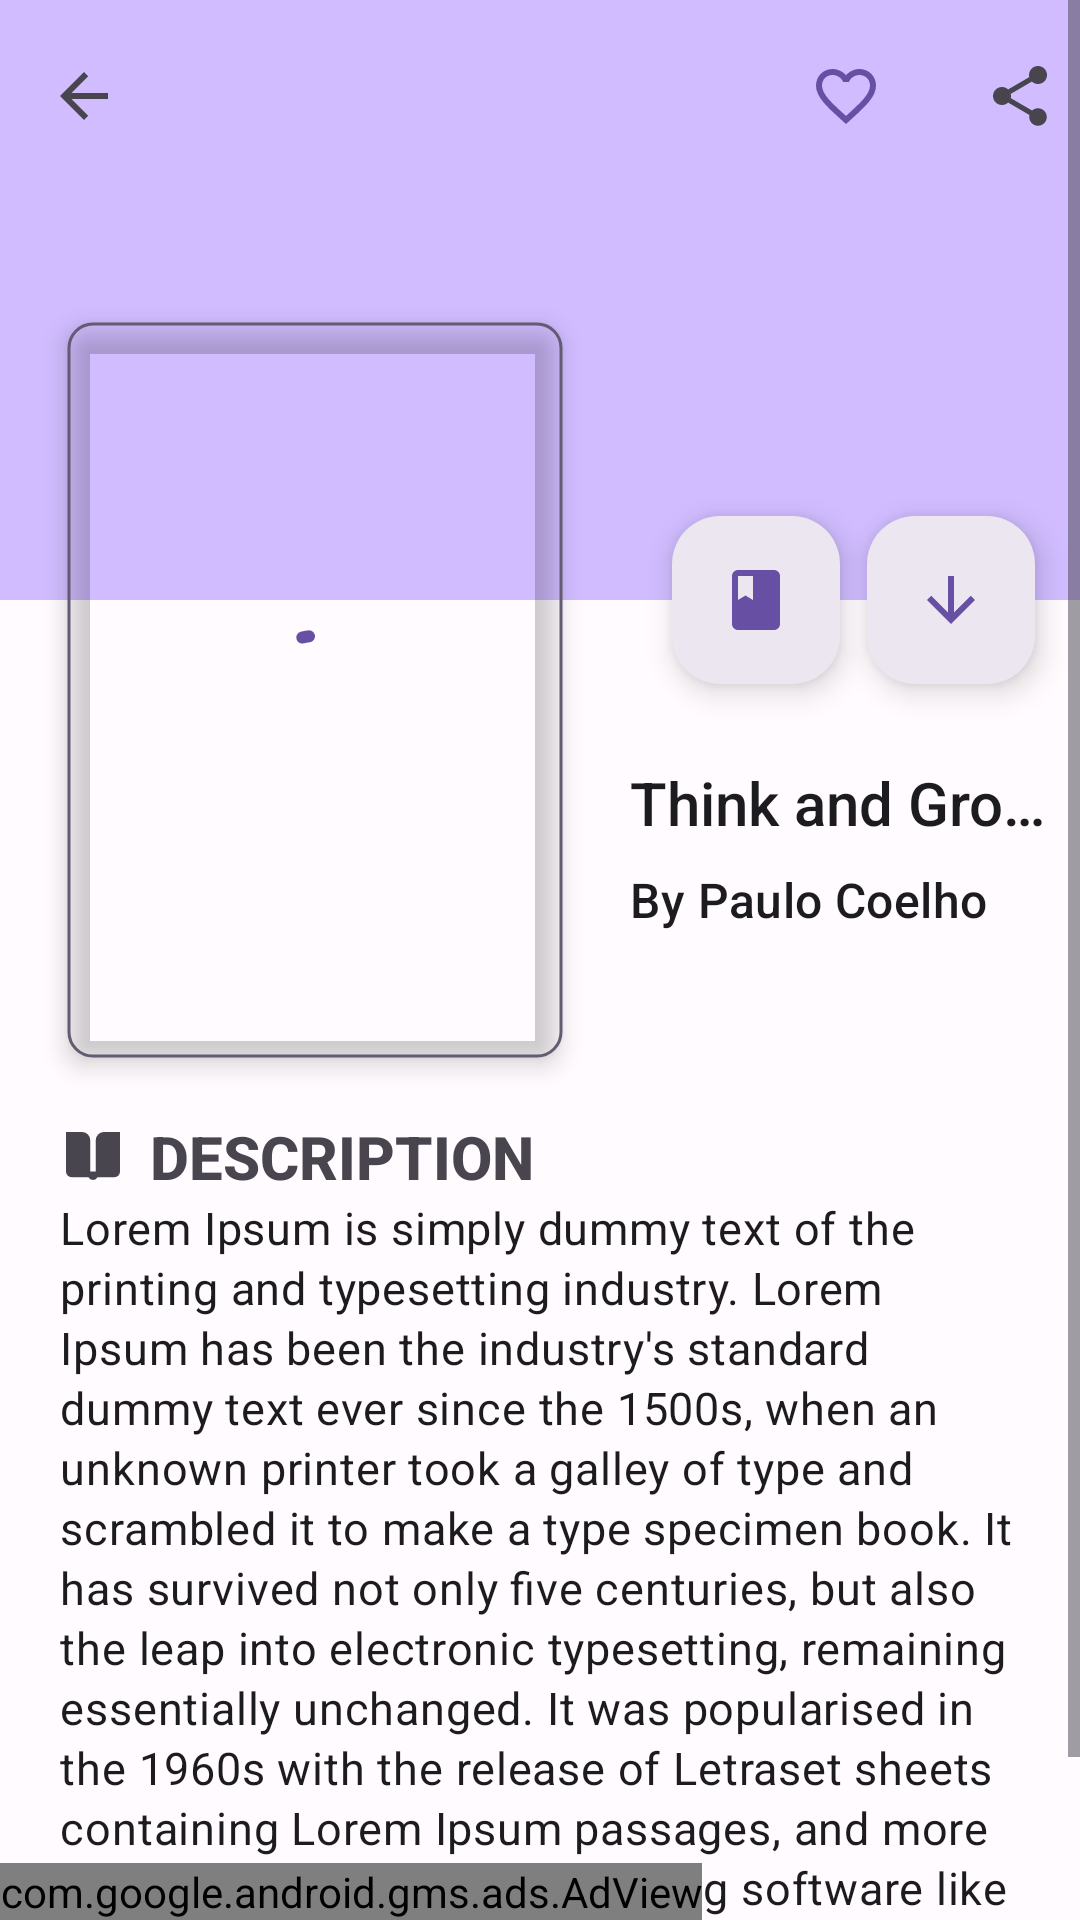

Named icons in this screenshot (1080*1920) and their centers, (x=x, y=y):
arrow downward: (x=951, y=600)
book: (x=756, y=600)
favorite border: (x=846, y=96)
share: (x=1036, y=96)
